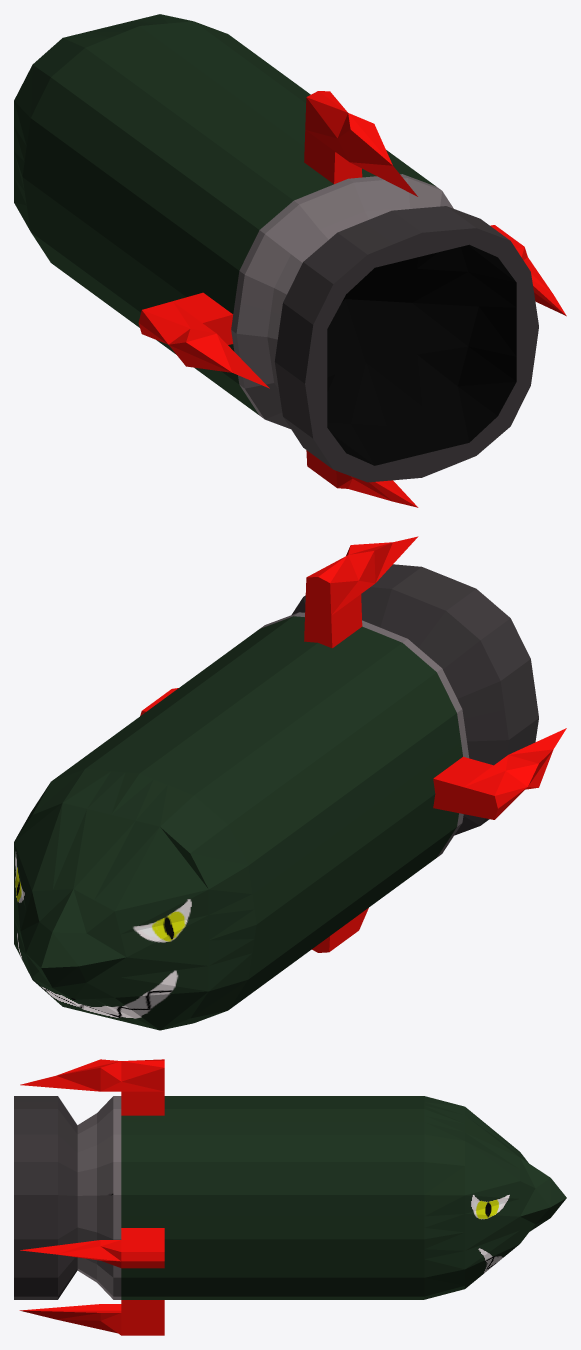
File: littleBoy.fbx
3 renders of one model, top to bottom at view 1: azimuth 30°, elevation 25°; view 2: azimuth 150°, elevation 25°; view 3: azimuth 270°, elevation 25°, orthographic. The views are drawn at different scales.
Visible parts, largest first — view 1: Cube; view 2: Cube; view 3: Cube.
Part boxes in pixels (x1,y1,x2,y2): Cube: (14, 14, 566, 507); Cube: (14, 536, 566, 1030); Cube: (14, 1059, 566, 1335).
Size of the model in its own units: 3.72 by 6.84 by 3.72.
1 material, 1 textured.
